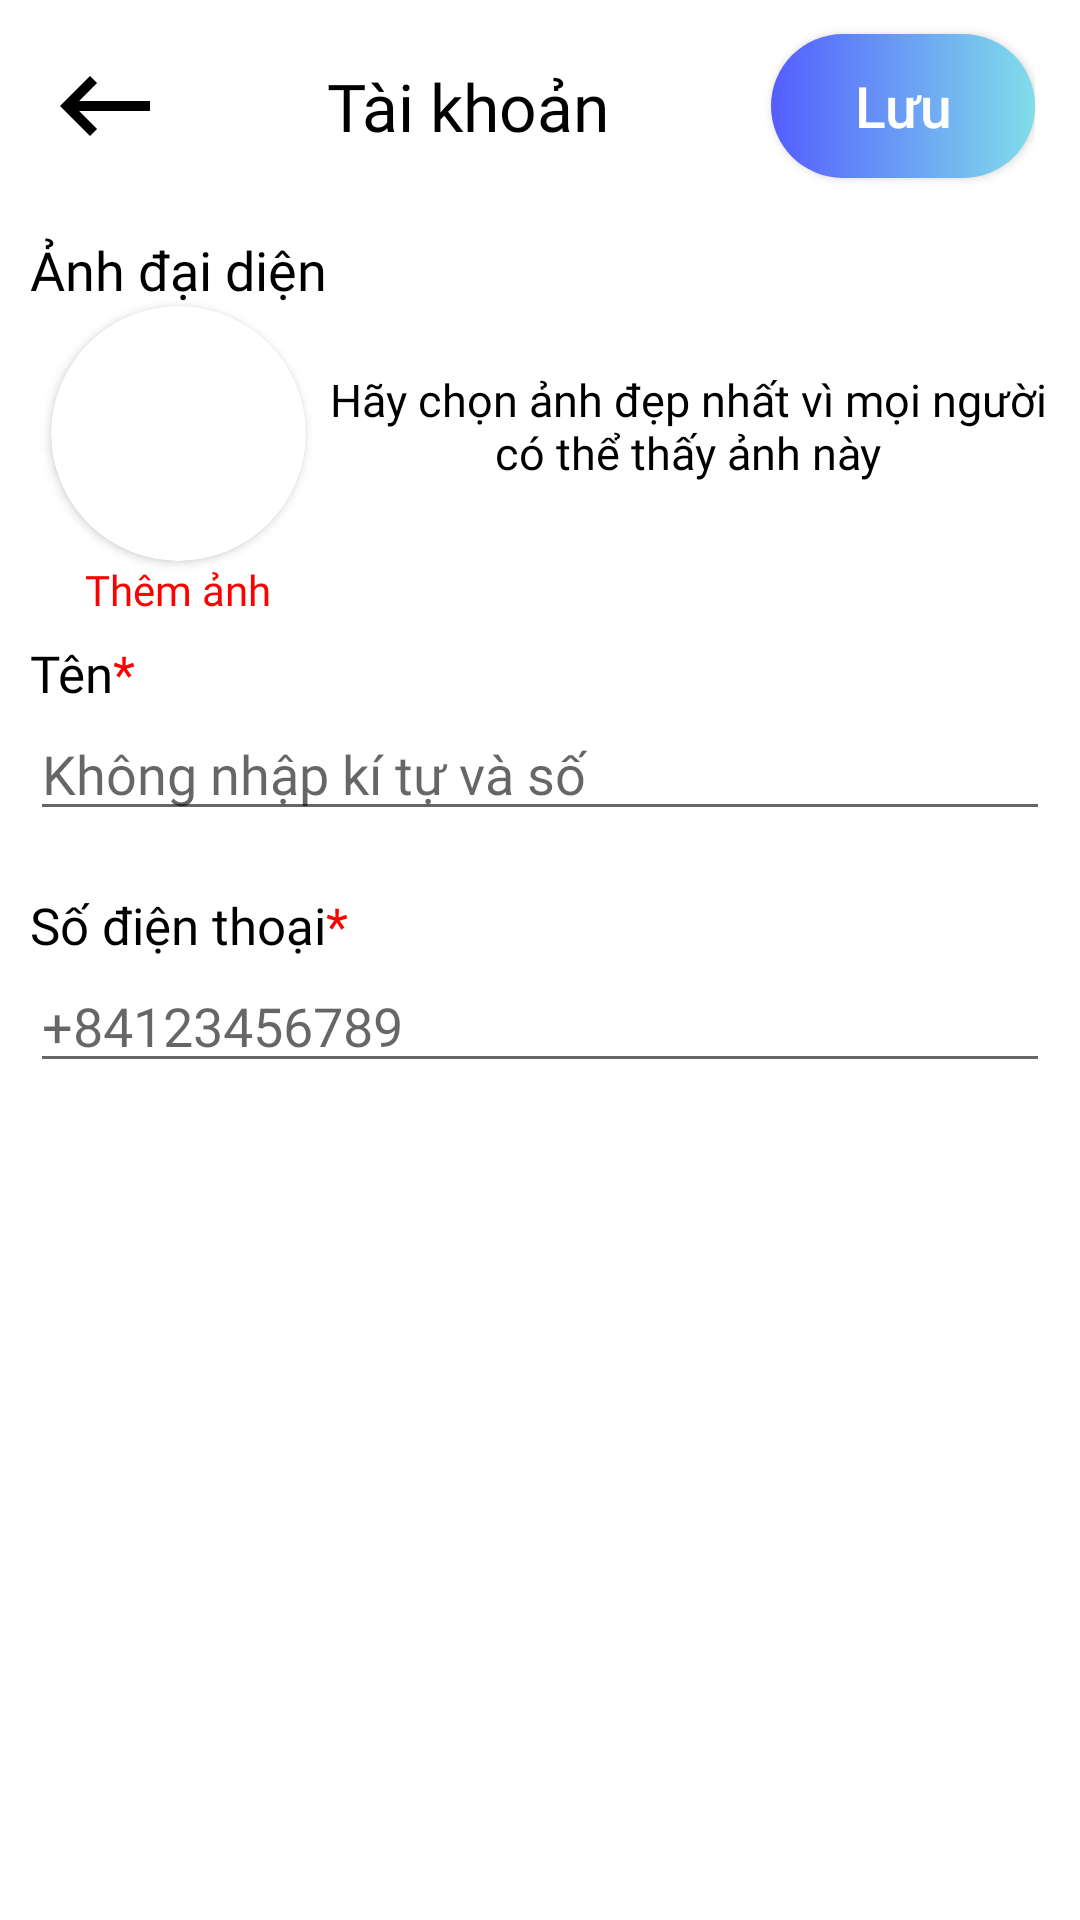

Icon bounding boxes for this 1080px x 1920px phone screenshot, format {"left": x1, "top": y1, "right": x2, "bottom": y2}:
keyboard backspace: {"left": 60, "top": 76, "right": 150, "bottom": 136}
